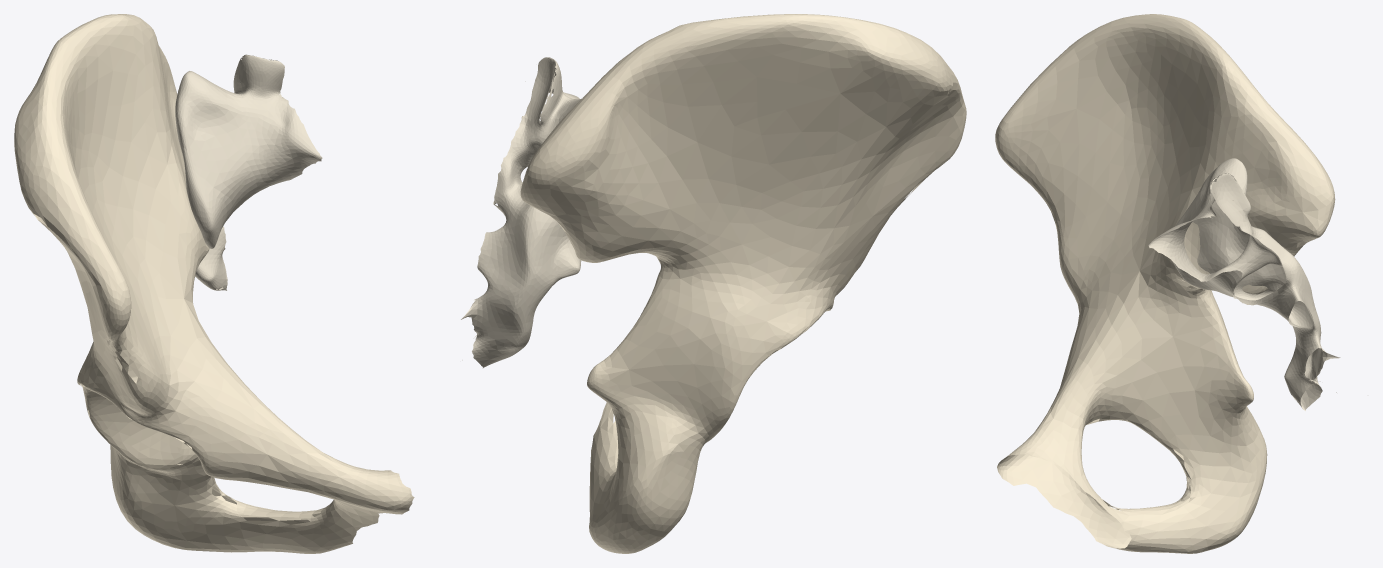
Rendered from bacino_interno.glb.
3 renders of one model, left to right at view 1: azimuth 30°, elevation 25°; view 2: azimuth 150°, elevation 25°; view 3: azimuth 270°, elevation 25°, orthographic. The views are drawn at different scales.
Parts seen in each view (by area): view 1: right hip, posterior part of pelvis; view 2: right hip, posterior part of pelvis; view 3: right hip, posterior part of pelvis.
Part boxes in pixels (x1,y1,x2,y2): right hip: (14,14,414,553); posterior part of pelvis: (175,54,322,290); right hip: (520,14,966,553); posterior part of pelvis: (461,57,581,367); right hip: (995,14,1335,553); posterior part of pelvis: (1148,158,1340,410).
Bounding box in the file's own units: 127 × 205 × 150.
